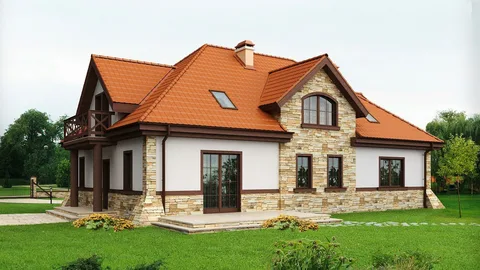private_hause: (81, 59, 438, 211)
